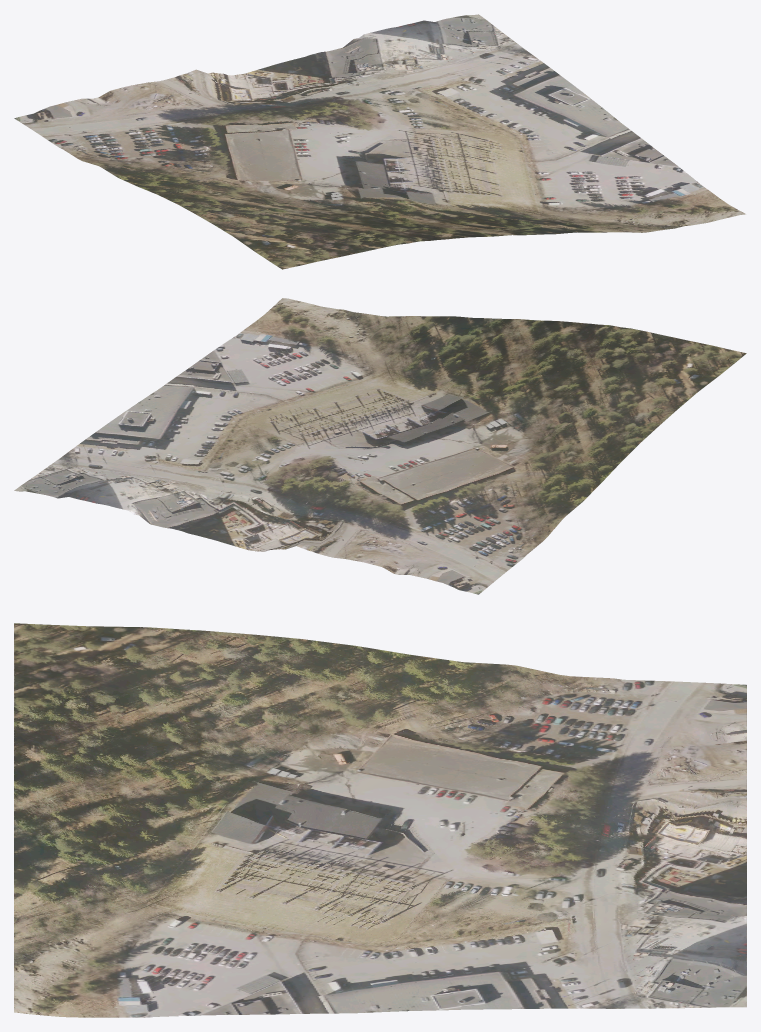
Rendered from CM_Terrain_24490049_6820204.fbx.
The picture shows the model from 3 angles, top to bottom: view 1: azimuth 30°, elevation 25°; view 2: azimuth 150°, elevation 25°; view 3: azimuth 270°, elevation 25°; orthographic projection. The views are drawn at different scales.
Parts seen in each view (by area): view 1: CM_Terrain_24490049_6820204_LOD0; view 2: CM_Terrain_24490049_6820204_LOD0; view 3: CM_Terrain_24490049_6820204_LOD0.
Part boxes in pixels (x1,y1,x2,y2): CM_Terrain_24490049_6820204_LOD0: (14,14,745,269); CM_Terrain_24490049_6820204_LOD0: (14,298,746,594); CM_Terrain_24490049_6820204_LOD0: (14,623,746,1017).
Size of what is drawn, in the model's own units: 205 by 26.14 by 205.
